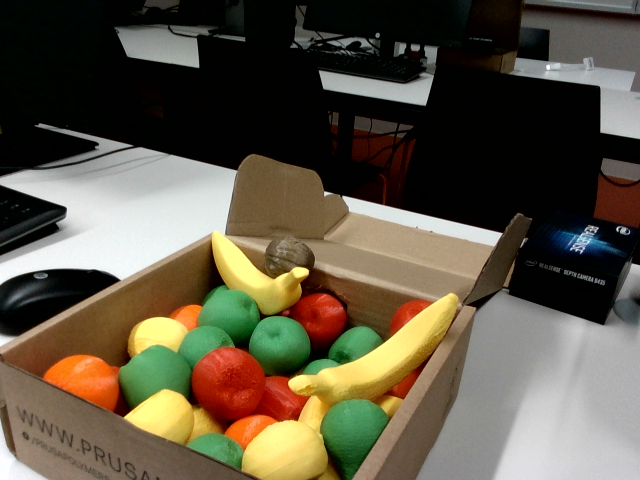banana: (286, 291, 480, 431), (191, 230, 311, 324), (122, 378, 203, 446), (296, 393, 332, 432)
green apple: (302, 384, 392, 480), (238, 303, 321, 386), (114, 339, 196, 409), (193, 278, 267, 350), (321, 318, 384, 368)
lemon: (242, 420, 327, 479), (123, 313, 190, 357)
orange: (42, 339, 132, 414), (223, 401, 276, 452), (166, 298, 202, 332)
red apple: (180, 335, 276, 429), (285, 281, 357, 354), (380, 289, 432, 336)
walnut: (260, 231, 316, 279)
